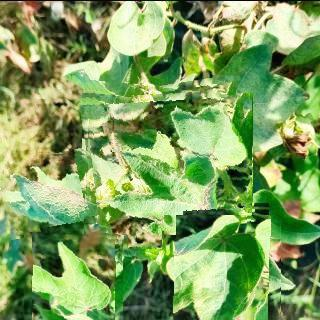curl: (83, 79, 252, 248), (161, 214, 281, 320), (24, 230, 123, 320), (0, 150, 97, 235)
